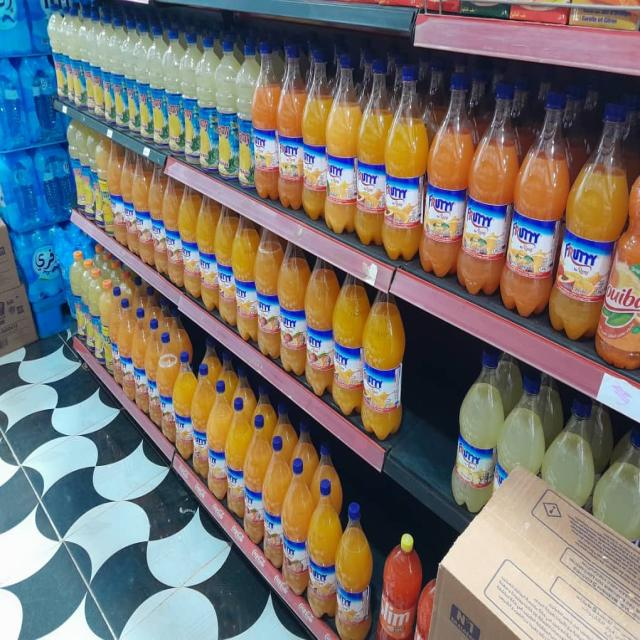ramy_plastique: (382, 64, 427, 260), (451, 358, 505, 511), (355, 58, 392, 245), (363, 290, 404, 436), (331, 272, 369, 412), (276, 45, 308, 211), (304, 480, 342, 618), (334, 507, 374, 638), (252, 41, 282, 203), (303, 254, 338, 389), (277, 240, 310, 371), (254, 225, 286, 358), (242, 418, 274, 543), (224, 398, 254, 516), (205, 381, 234, 498), (190, 362, 218, 474), (214, 202, 240, 322), (172, 351, 200, 459), (176, 27, 200, 152), (161, 26, 185, 148), (196, 189, 220, 307), (156, 339, 182, 440), (178, 181, 201, 294), (144, 310, 168, 414), (162, 172, 184, 284), (147, 162, 167, 270), (130, 304, 151, 405), (117, 296, 138, 396), (66, 5, 86, 109), (87, 267, 106, 366), (119, 144, 137, 248), (107, 137, 125, 234), (94, 129, 112, 225), (108, 285, 126, 381)
